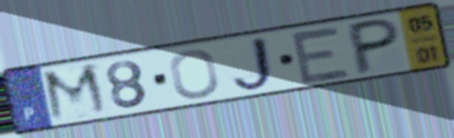8: (104, 58, 150, 110)
E: (287, 24, 355, 86)
J: (228, 33, 281, 94)
M: (39, 60, 114, 125)
O: (167, 47, 222, 101)
P: (348, 15, 402, 78)
